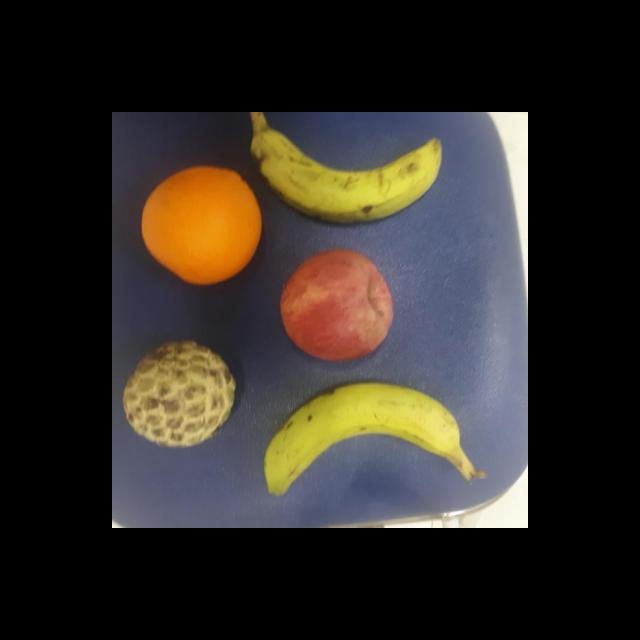Sakya fruit: (121, 340, 242, 450)
apple: (277, 248, 399, 365)
banana: (262, 381, 482, 502), (249, 124, 445, 228)
orange: (142, 163, 266, 288)
